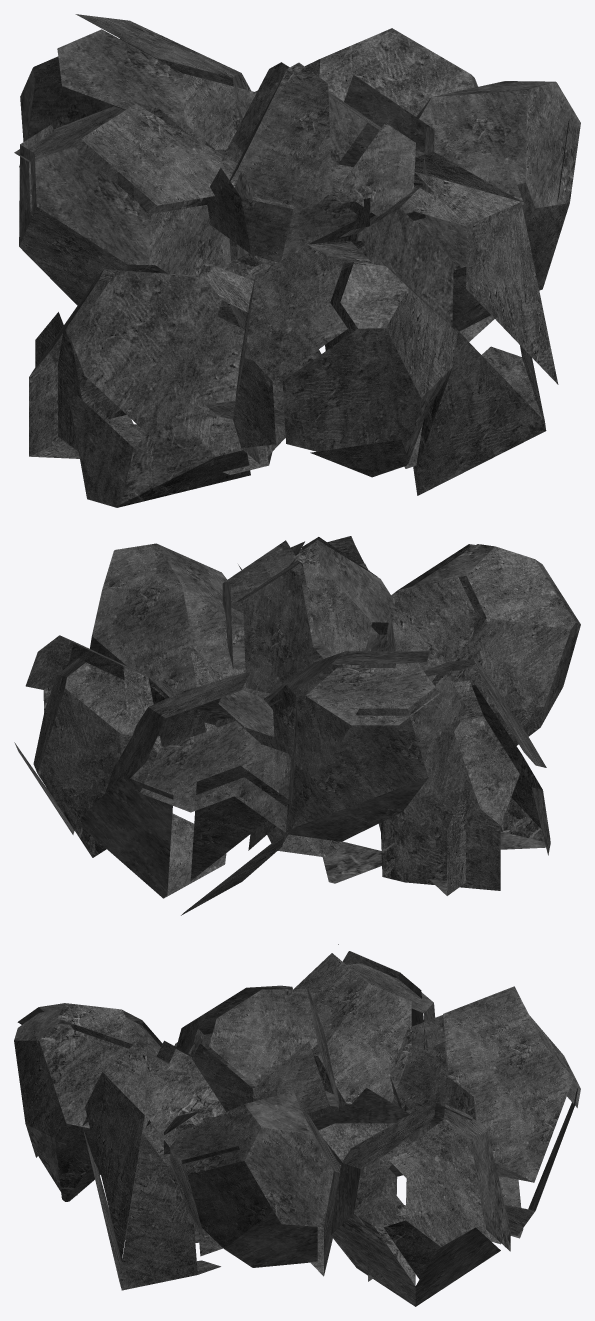
The model's file is Stone11.obj.
The picture shows the model from 3 angles, top to bottom: view 1: azimuth 30°, elevation 25°; view 2: azimuth 150°, elevation 25°; view 3: azimuth 270°, elevation 25°; orthographic projection. The views are drawn at different scales.
Parts seen in each view (by area): view 1: Object015; view 2: Object015; view 3: Object015.
Boxes of the visible parts, x1,y1,x2,y2 form: Object015: (14,14,580,507); Object015: (14,536,580,915); Object015: (14,944,580,1306).
Size of the model in its own units: 198 by 130 by 240.
1 material, 1 textured.
